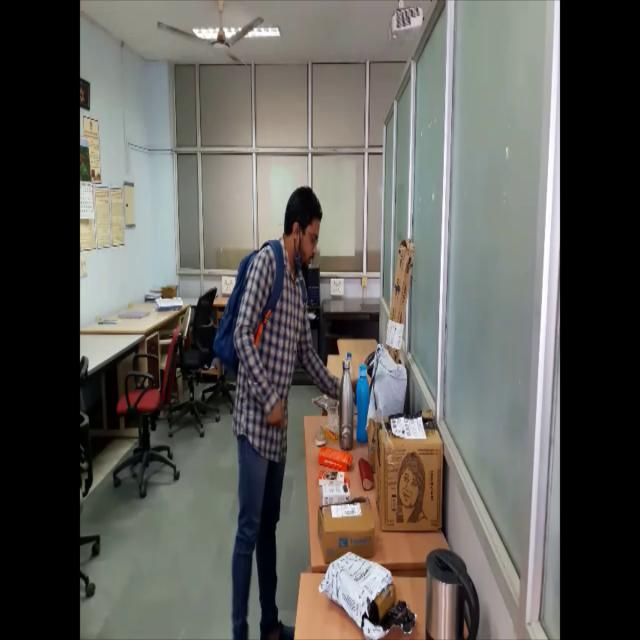normal: (210, 177, 348, 640)
